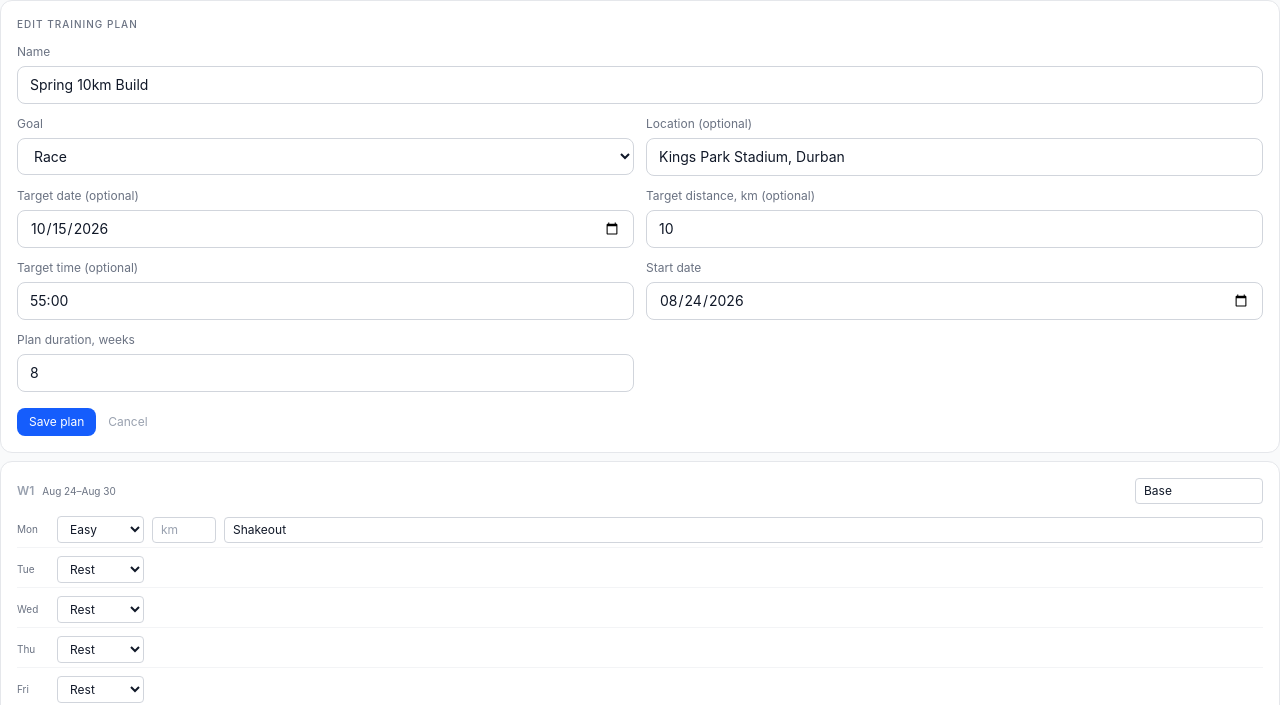
Test: TrainingPlanBuilder › surfaces a validation error for a non-numeric per-day distance instead of saving
What coordinates should you click on to do the following:
click the button "Save plan"
I would click on:
 (57, 422)
Its box is top-left (17, 408), bottom-right (96, 436).
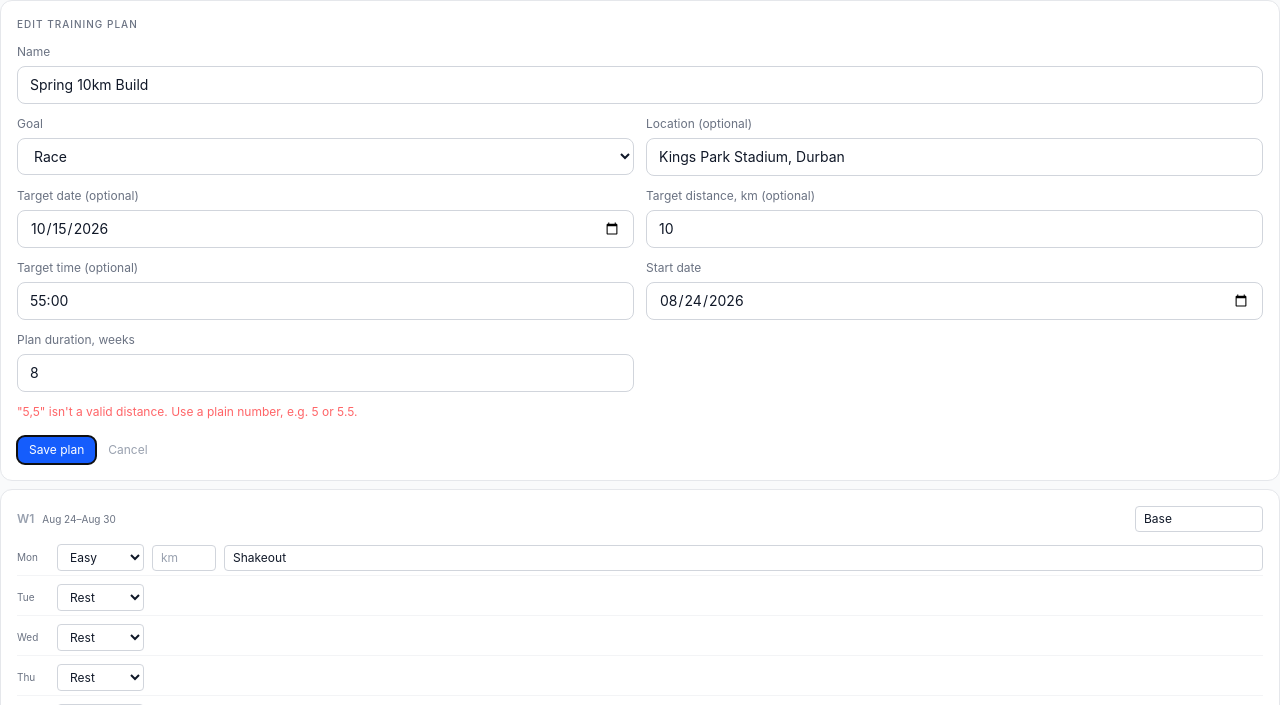
Expected: the text "\"5,5\"" is shown, top-left (17, 404), bottom-right (358, 419)
